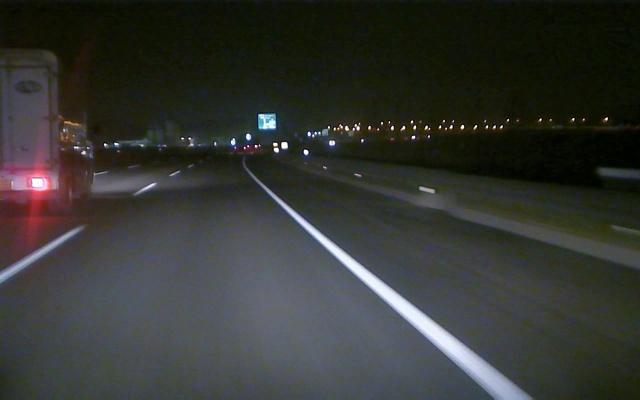lane: (248, 174, 530, 396), (1, 182, 155, 282)
